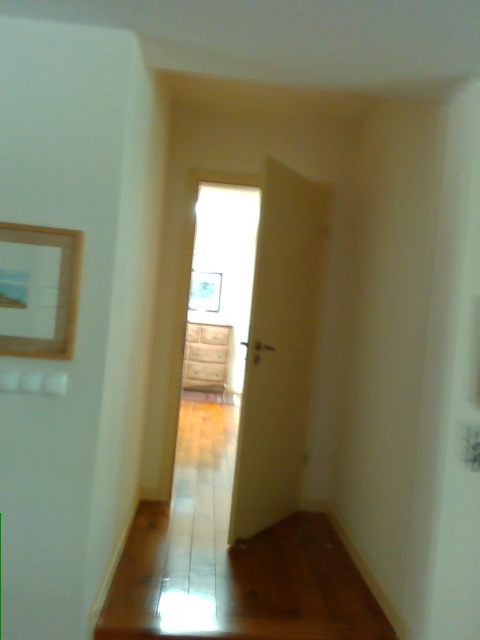semi: (158, 158, 332, 543)
